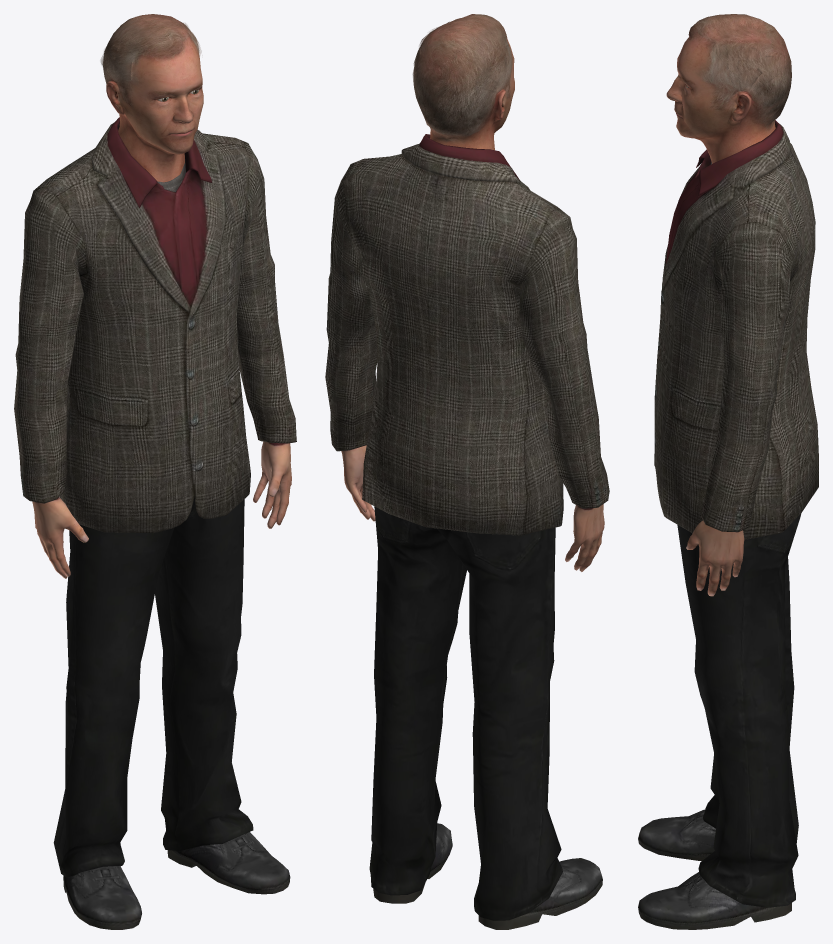
The model's file is male-adult-03.glb.
3 renders of one model, left to right at view 1: azimuth 30°, elevation 25°; view 2: azimuth 150°, elevation 25°; view 3: azimuth 270°, elevation 25°, orthographic.
Visible parts, largest first — view 1: m004_hipoly_81_bones_opacity; view 2: m004_hipoly_81_bones_opacity; view 3: m004_hipoly_81_bones_opacity.
Part boxes in pixels (x1=…): m004_hipoly_81_bones_opacity: x1=14, y1=14, x2=296, y2=929; m004_hipoly_81_bones_opacity: x1=325, y1=14, x2=609, y2=929; m004_hipoly_81_bones_opacity: x1=638, y1=14, x2=818, y2=929.
Bounding box in the file's own units: 0.5552 × 1.7 × 0.3226.
3 materials, 3 textured.
